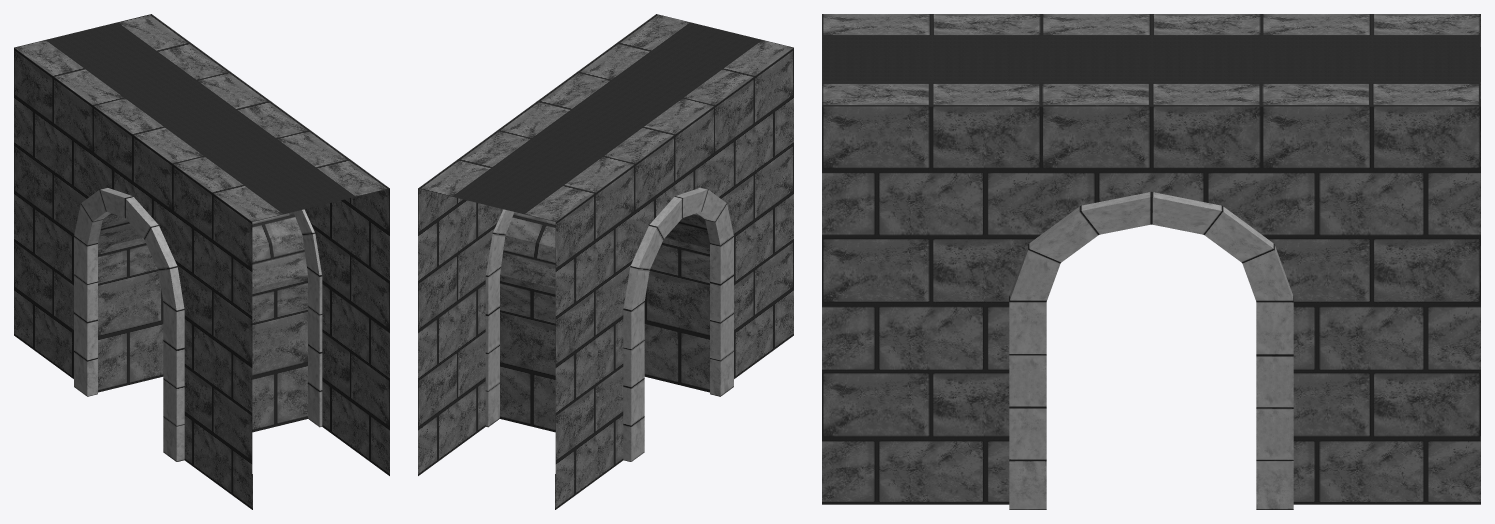
Rendered from Wall_DoorHole_v2.fbx.
3 views of the same model, side by side, from view 1: azimuth 30°, elevation 25°; view 2: azimuth 150°, elevation 25°; view 3: azimuth 270°, elevation 25° (orthographic). The views are drawn at different scales.
Visible parts, largest first — view 1: Wall_DoorHole; view 2: Wall_DoorHole; view 3: Wall_DoorHole.
Part boxes in pixels (left/top/right/bottom): Wall_DoorHole: left=14, top=14, right=389, bottom=509; Wall_DoorHole: left=418, top=14, right=793, bottom=509; Wall_DoorHole: left=822, top=14, right=1480, bottom=509.
Bounding box in the file's own units: 2.23 × 4 × 6.
